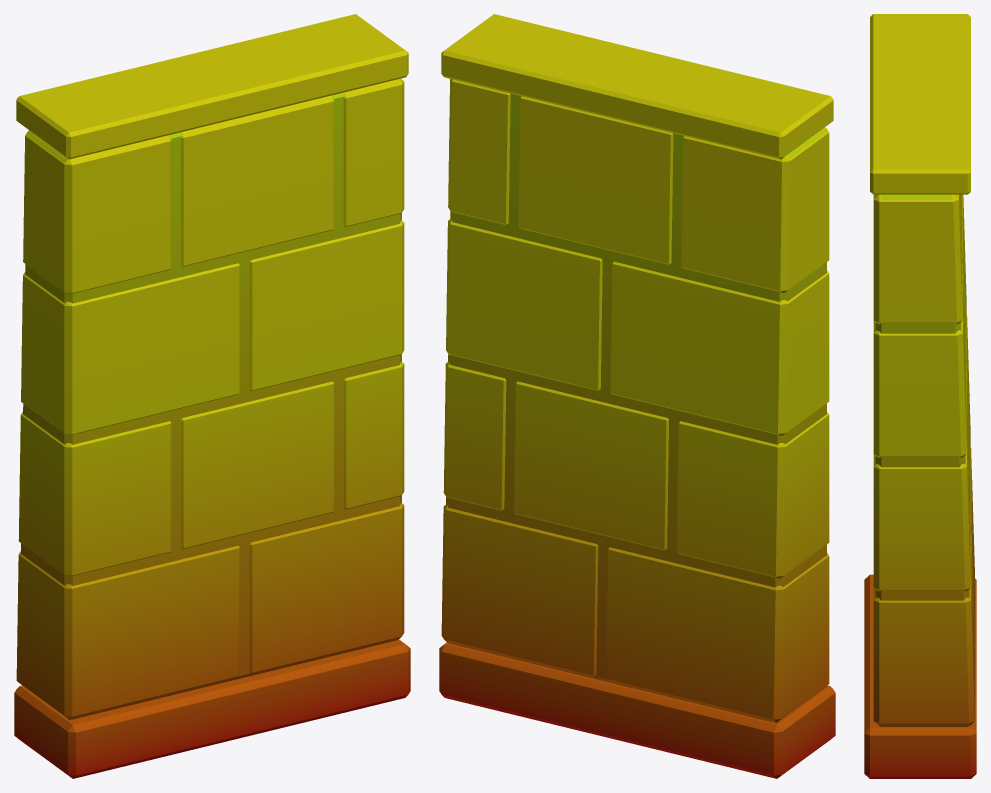
Rendered from wall.glb.
The picture shows the model from 3 angles, left to right: view 1: azimuth 30°, elevation 25°; view 2: azimuth 150°, elevation 25°; view 3: azimuth 270°, elevation 25°; orthographic projection. The views are drawn at different scales.
Parts seen in each view (by area): view 1: wall; view 2: wall; view 3: wall.
Boxes of the visible parts, <box> form: wall: <box>14,14,410,778</box>; wall: <box>439,14,835,778</box>; wall: <box>864,14,976,778</box>.
Size of what is drawn, in the model's own units: 2 by 3.6 by 0.6.
